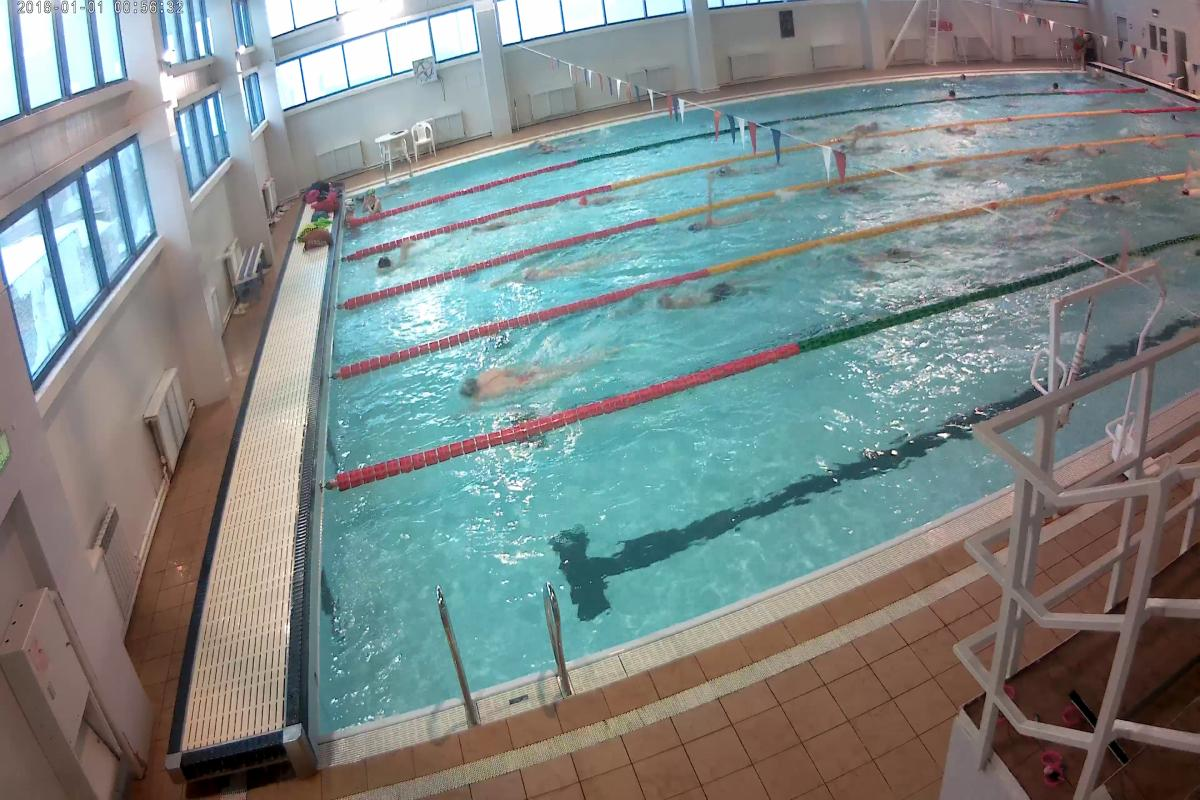swimmer: (451, 349, 597, 415), (637, 274, 761, 330), (508, 257, 613, 285), (692, 206, 772, 238), (371, 238, 423, 284), (833, 111, 889, 142), (564, 195, 623, 212), (1085, 189, 1136, 208), (934, 126, 980, 143)
